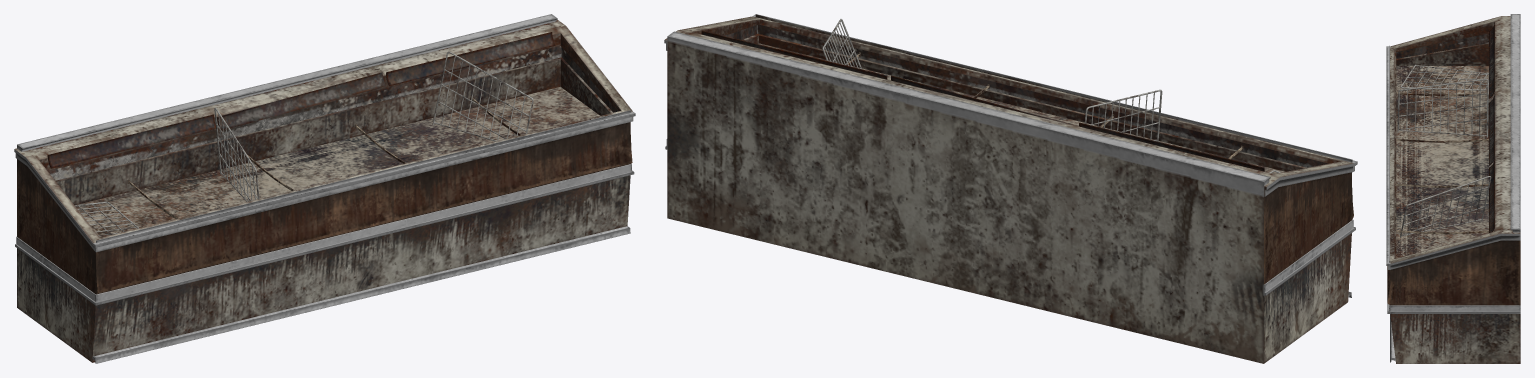
The model's file is retro_display_fridge.glb.
3 renders of one model, left to right at view 1: azimuth 30°, elevation 25°; view 2: azimuth 150°, elevation 25°; view 3: azimuth 270°, elevation 25°, orthographic. The views are drawn at different scales.
Parts seen in each view (by area): view 1: Fridge; view 2: Fridge; view 3: Fridge.
Boxes of the visible parts, x1,y1,x2,y2 form: Fridge: (14, 14, 635, 363); Fridge: (664, 14, 1357, 363); Fridge: (1386, 14, 1520, 363).
Size of the model in its own units: 3.81 by 1.16 by 0.9954.
1 material, 1 textured.
